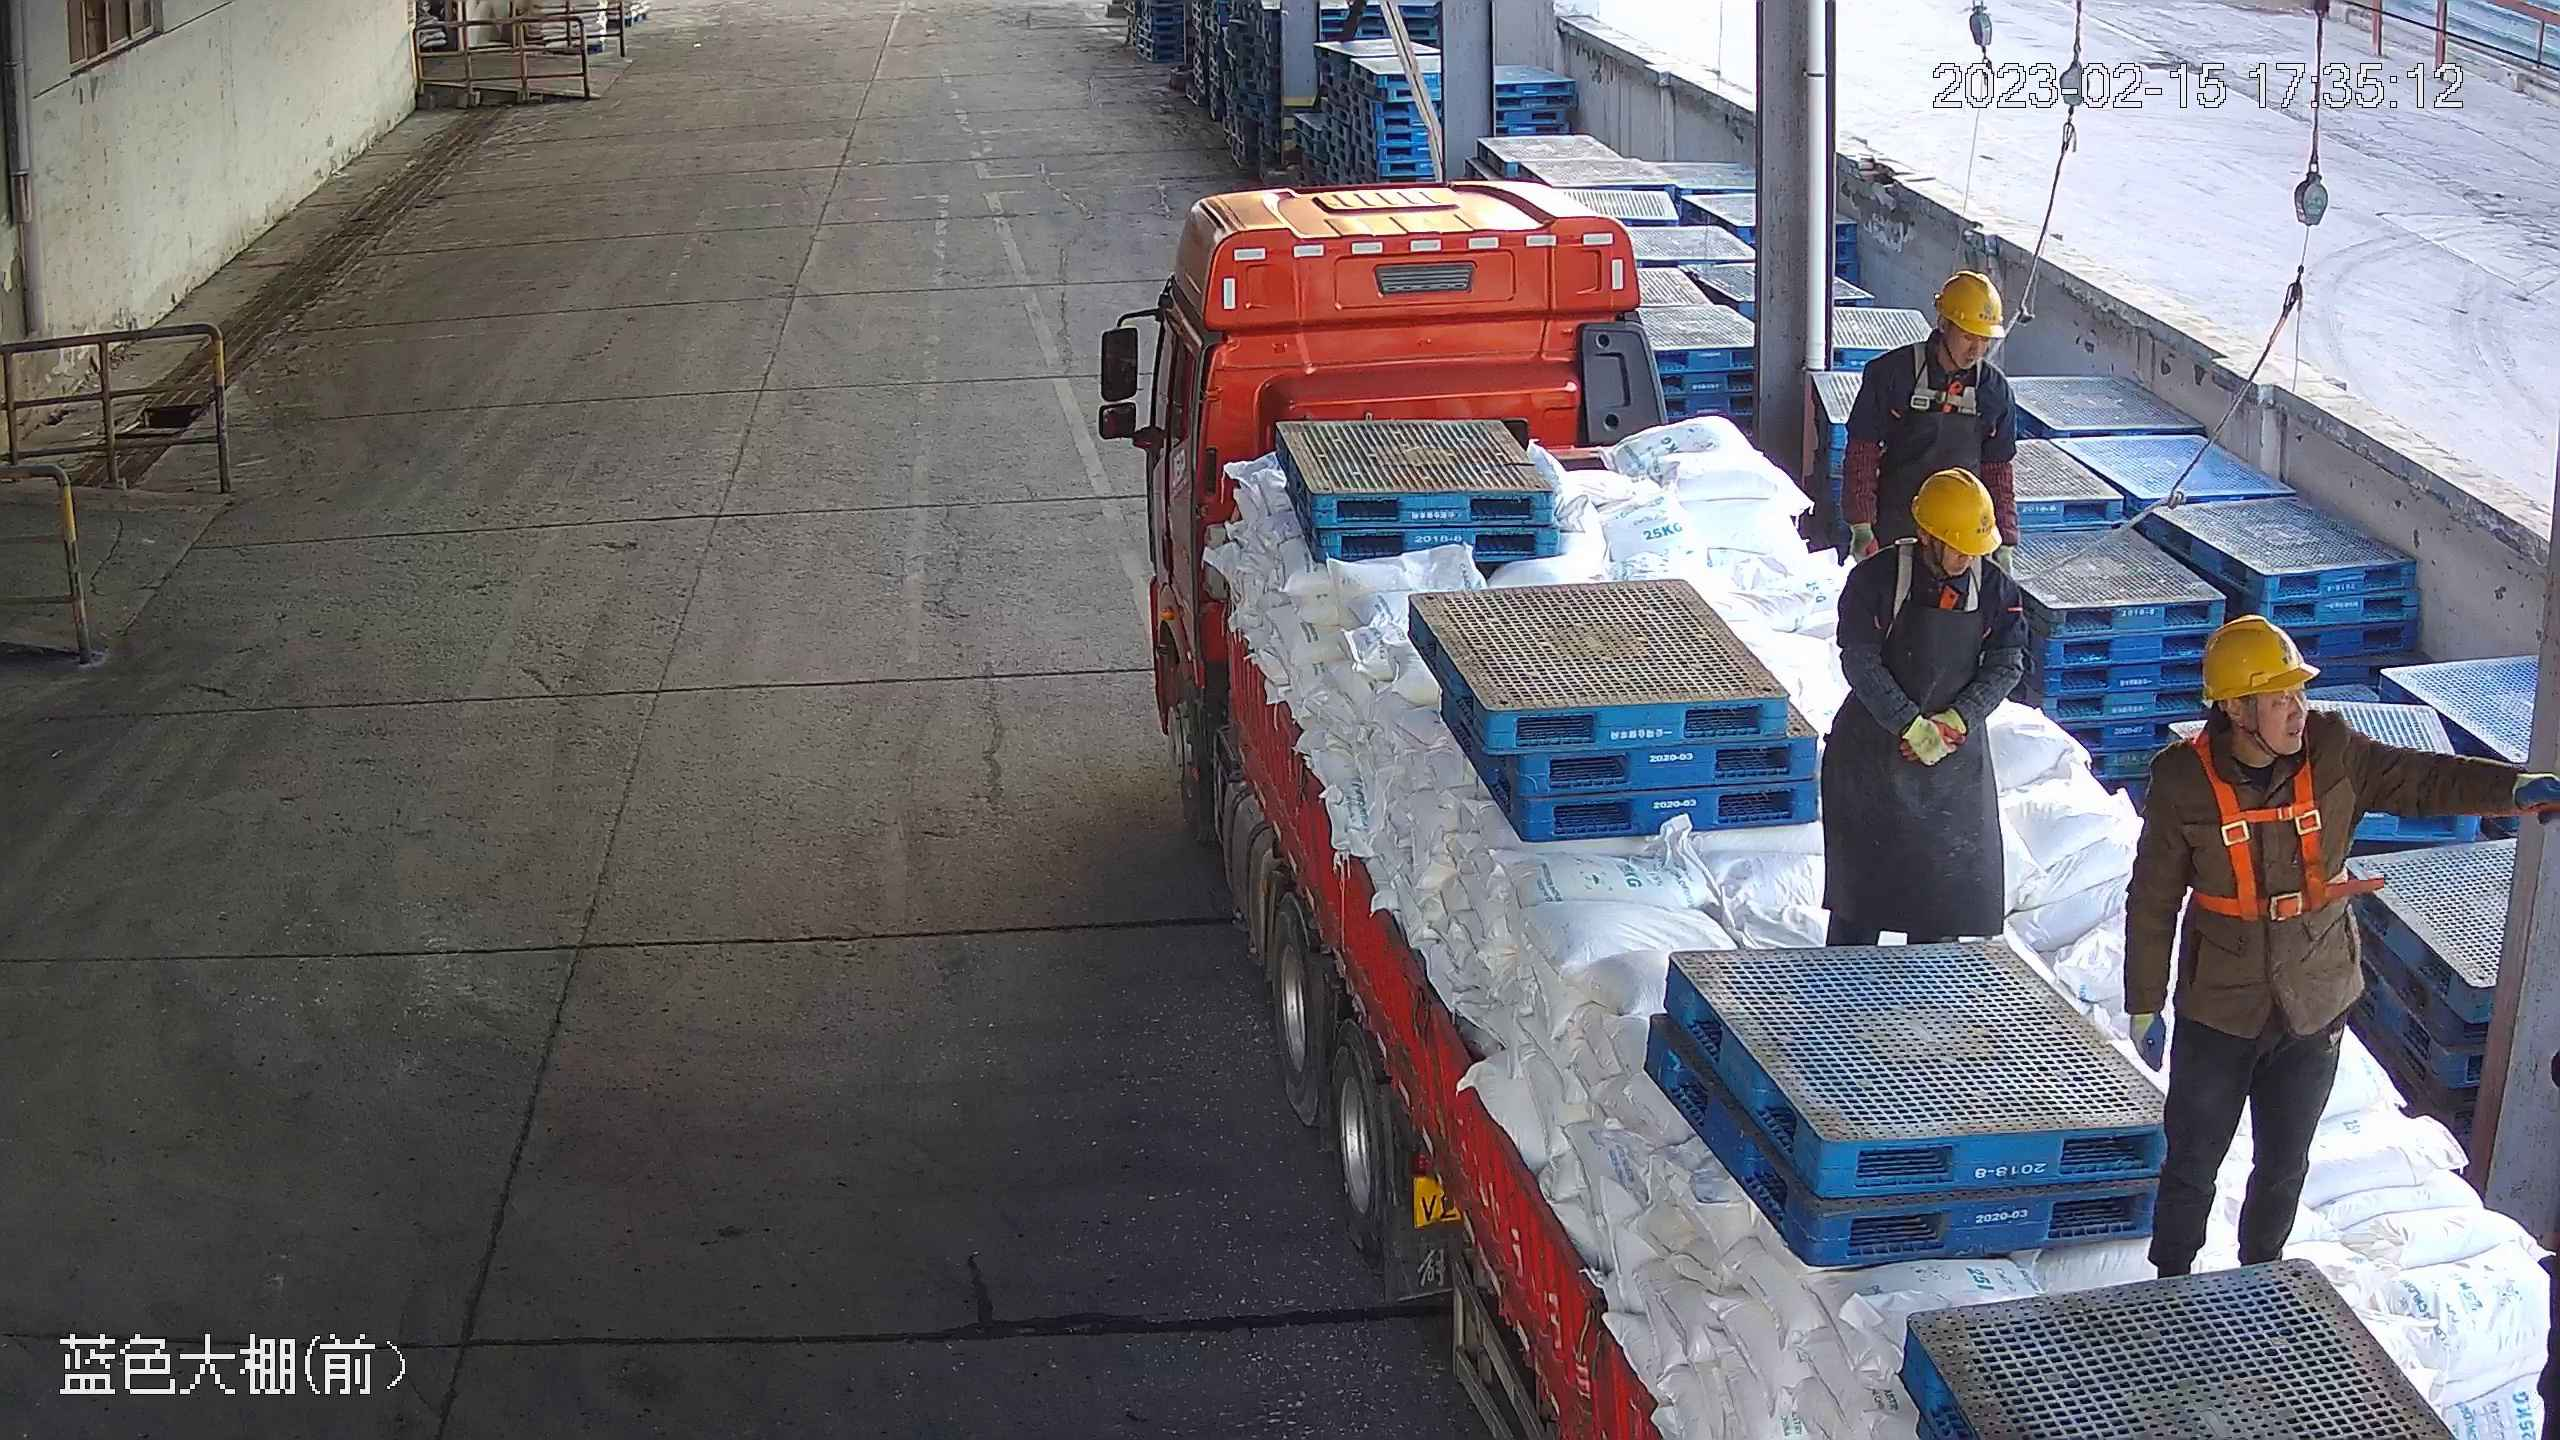belt: (2190, 732, 2362, 925), (1881, 523, 1985, 617), (1892, 336, 1996, 429)
head: (2133, 603, 2394, 843), (1829, 466, 2025, 640), (1838, 273, 2014, 434)
helmet: (2205, 612, 2325, 703), (1901, 466, 2012, 562), (1935, 253, 2012, 338)
people: (2129, 615, 2396, 1291), (1829, 464, 2027, 936)
truck: (1101, 169, 2560, 1440)
